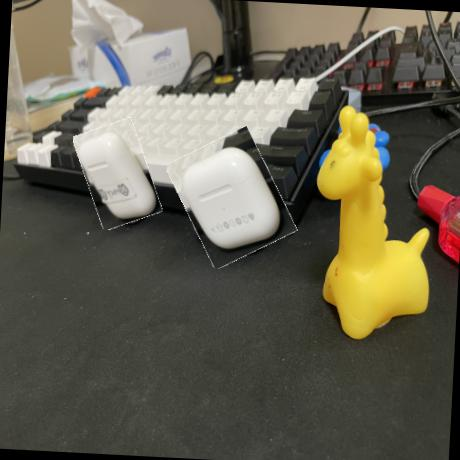airpod2: (75, 118, 158, 229)
airpod3: (172, 130, 290, 266)
